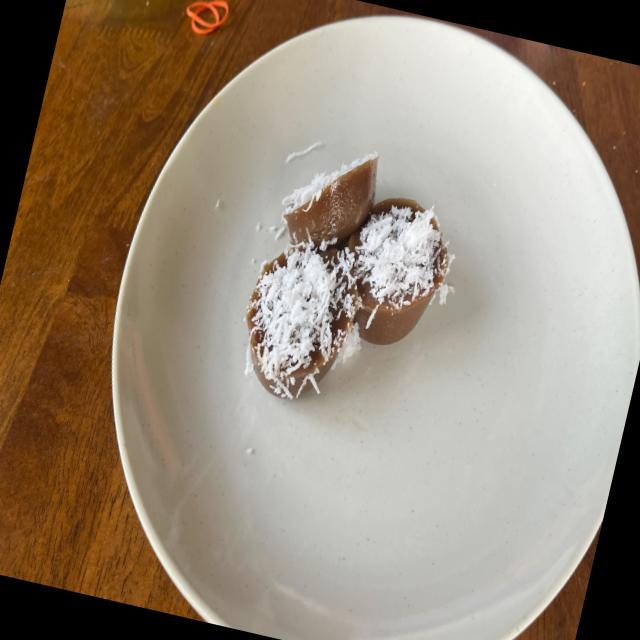Kuih lompang: (348, 197, 453, 344)
